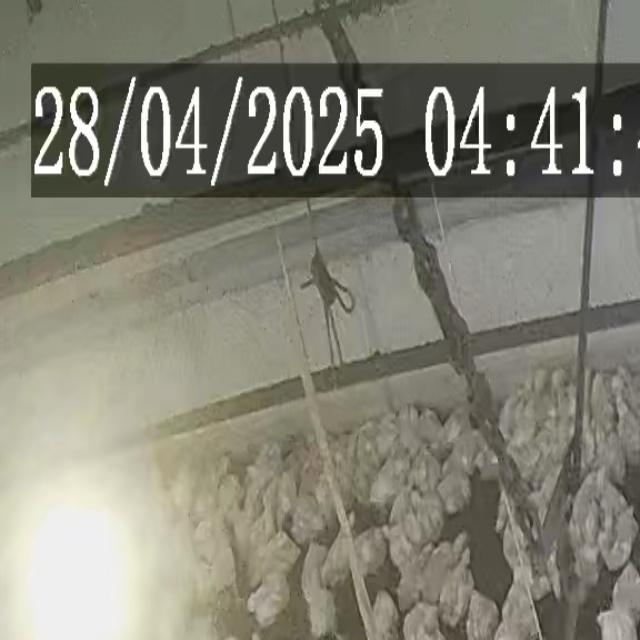chicken: (424, 530, 469, 600), (440, 548, 476, 626), (397, 542, 435, 609), (598, 508, 636, 570), (249, 573, 290, 629), (326, 513, 356, 583), (595, 424, 627, 489), (304, 584, 338, 638), (260, 530, 301, 574), (611, 562, 640, 623), (616, 393, 640, 461), (412, 492, 444, 540), (298, 544, 326, 598), (355, 528, 384, 579), (439, 468, 471, 514), (467, 591, 496, 640), (372, 589, 398, 640), (384, 524, 417, 564), (596, 611, 640, 640), (405, 604, 440, 640)
